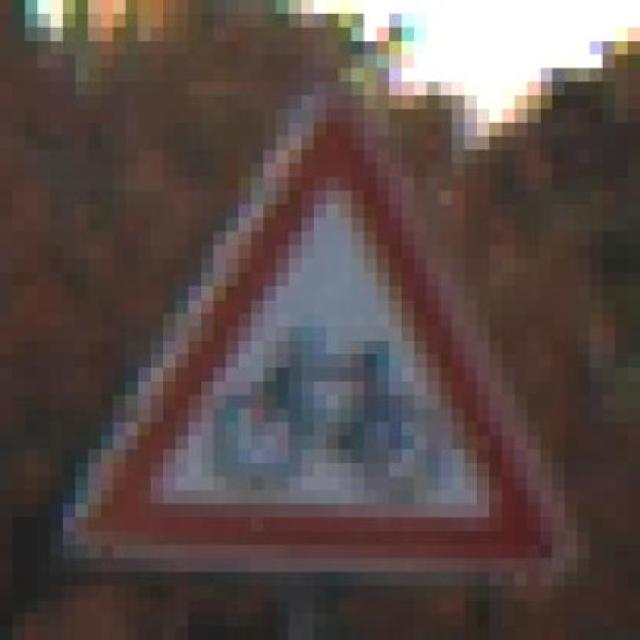CYCLE ROUTE AHEAD WARNING: (38, 54, 590, 586)
